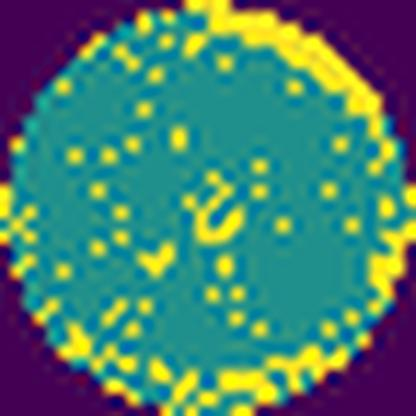Edge-Loc: (51, 213, 412, 416), (179, 0, 401, 175)
